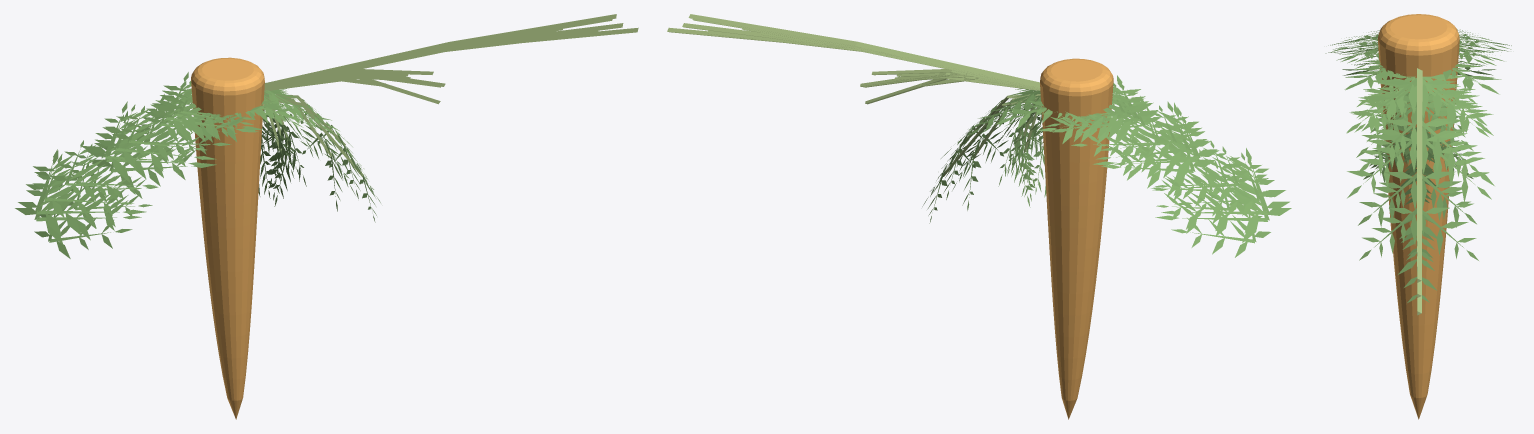
Rendered from carrot_harvest_v16.articulated.glb.
3 renders of one model, left to right at view 1: azimuth 30°, elevation 25°; view 2: azimuth 150°, elevation 25°; view 3: azimuth 270°, elevation 25°, orthographic. The views are drawn at different scales.
Visible parts, largest first — view 1: root, leaf01_link2, leaf03_link2, leaf04_link2, leaf05_link2, leaf00_link2, leaf05_link0, leaf07_link2, leaf06_link2, leaf02_link2, leaf02_link0, leaf03_link0 (+2 smaller); view 2: root, leaf01_link2, leaf03_link2, leaf04_link2, leaf05_link2, leaf00_link2, leaf02_link0, leaf07_link2, leaf06_link2, leaf02_link2, leaf03_link0, leaf05_link0 (+1 smaller); view 3: root, leaf01_link2, leaf05_link2, leaf03_link2, leaf04_link2, leaf02_link0, leaf00_link2, leaf06_link2, leaf07_link2, leaf02_link2.
Boxes of the visible parts, bbox=[...] form: root: bbox=[191, 57, 264, 419]; leaf01_link2: bbox=[18, 82, 367, 235]; leaf03_link2: bbox=[15, 81, 355, 244]; leaf04_link2: bbox=[29, 81, 318, 217]; leaf05_link2: bbox=[34, 72, 380, 258]; leaf00_link2: bbox=[49, 89, 314, 199]; leaf05_link0: bbox=[264, 27, 638, 88]; leaf07_link2: bbox=[83, 100, 296, 202]; leaf06_link2: bbox=[63, 95, 311, 200]; leaf02_link2: bbox=[68, 94, 303, 228]; leaf02_link0: bbox=[265, 14, 616, 83]; leaf03_link0: bbox=[265, 23, 623, 83]; root: bbox=[1040, 58, 1113, 419]; leaf01_link2: bbox=[936, 84, 1289, 233]; leaf03_link2: bbox=[952, 82, 1291, 242]; leaf04_link2: bbox=[980, 83, 1277, 216]; leaf05_link2: bbox=[922, 75, 1270, 257]; leaf00_link2: bbox=[997, 91, 1249, 202]; leaf02_link0: bbox=[688, 14, 1040, 87]; leaf07_link2: bbox=[1011, 90, 1214, 206]; leaf06_link2: bbox=[1002, 93, 1240, 199]; leaf02_link2: bbox=[1006, 96, 1241, 223]; leaf03_link0: bbox=[682, 23, 1039, 87]; leaf05_link0: bbox=[667, 27, 1039, 88]; root: bbox=[1377, 14, 1459, 419]; leaf01_link2: bbox=[1328, 30, 1511, 261]; leaf05_link2: bbox=[1325, 46, 1504, 302]; leaf03_link2: bbox=[1333, 36, 1508, 258]; leaf04_link2: bbox=[1331, 29, 1498, 204]; leaf02_link0: bbox=[1417, 68, 1422, 282]; leaf00_link2: bbox=[1351, 32, 1492, 176]; leaf06_link2: bbox=[1351, 39, 1480, 185]; leaf07_link2: bbox=[1359, 48, 1473, 199]; leaf02_link2: bbox=[1350, 49, 1489, 178].
Size of the model in its own units: 0.301 by 0.1681 by 0.0782.
1 material, 1 textured.
